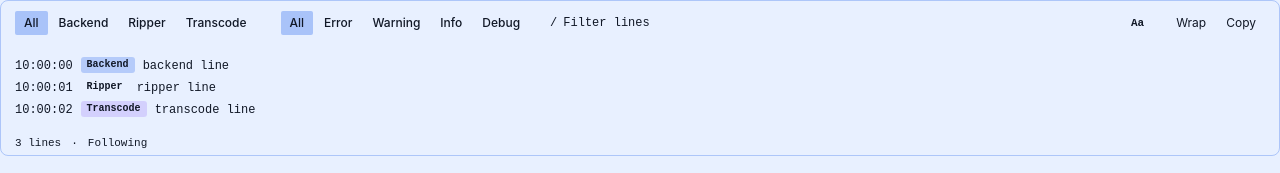
LogView › matches case only while the Aa toggle is pressed
The width and height of the screenshot is (1280, 173).
Type "RIPPER" into the field with test id "job-log-search".
click(842, 23); type("RIPPER")  # box left=563, top=16, right=1120, bottom=30
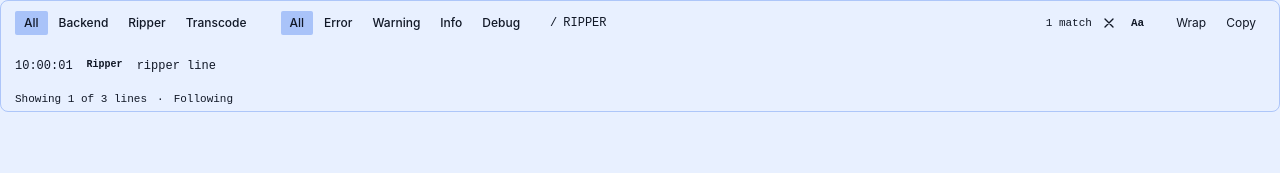
Expected: the text "ripper line" is shown, left=137, top=57, right=216, bottom=75
Click the button with test id "job-log-search-case".
click(1138, 23)  # box left=1126, top=15, right=1149, bottom=31
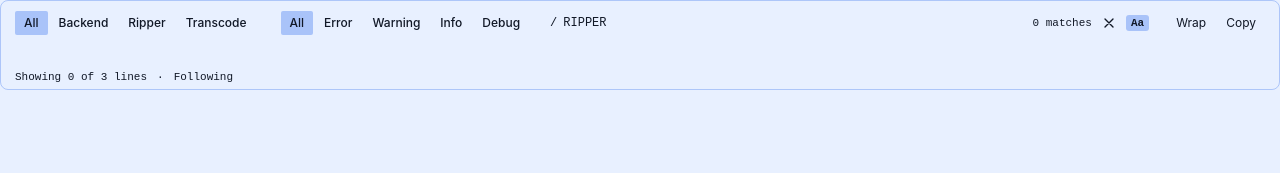
Expected: the text "ripper line" is gone
Expected: the text with test id "job-log-search-count" reads "0 matches", left=1032, top=17, right=1092, bottom=29
